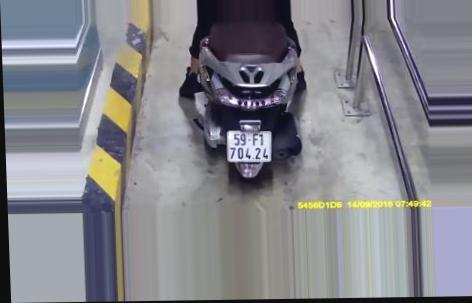License_Plate: (224, 126, 278, 170)
